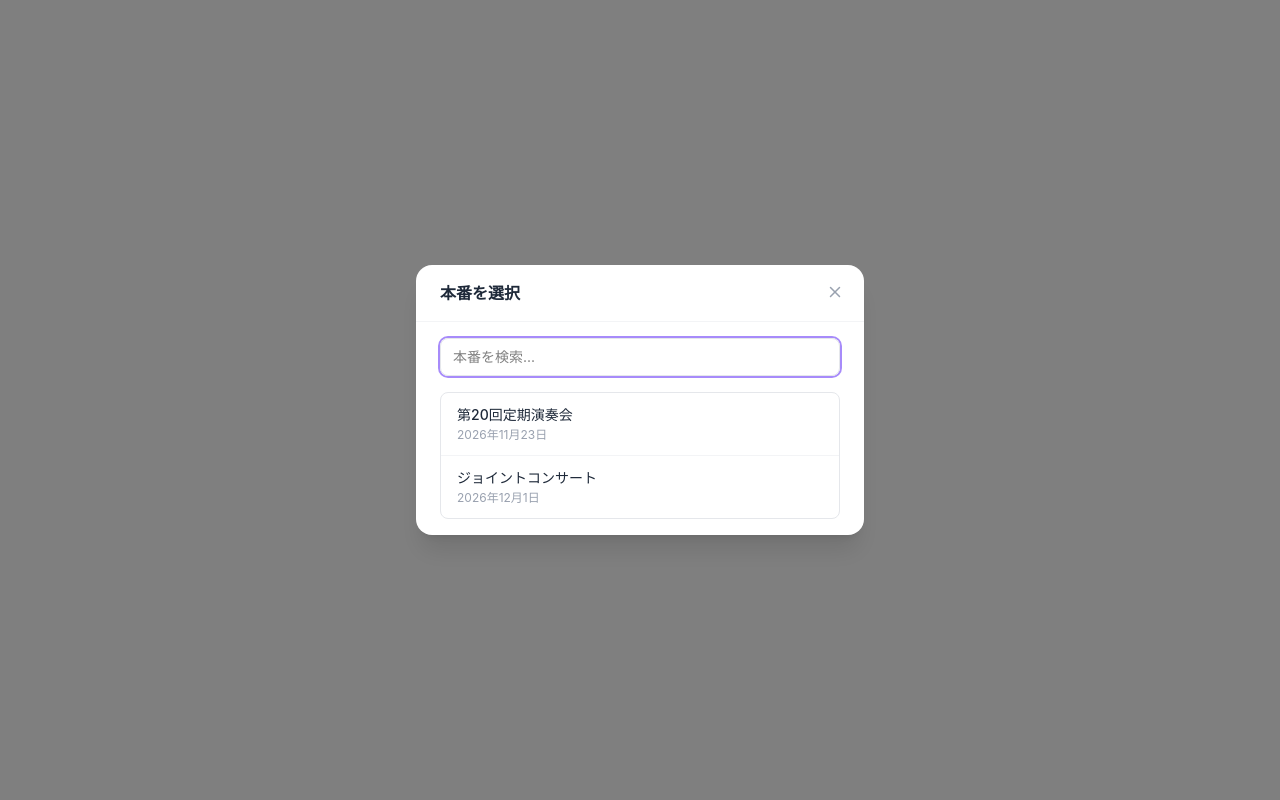
Scenario: ResourcePickerModal（本番） › 全件取得しタイトルでクライアント側フィルタする
expect the text "第20回定期演奏会" is shown: met, box x1=457 y1=406 x2=573 y2=423
expect the text "ジョイントコンサート" is shown: met, box x1=457 y1=469 x2=597 y2=486
Type "ジョイント" into the field with placeholder "本番を検索...".
click(640, 357); type("ジョイント")  # box x1=440 y1=338 x2=840 y2=376
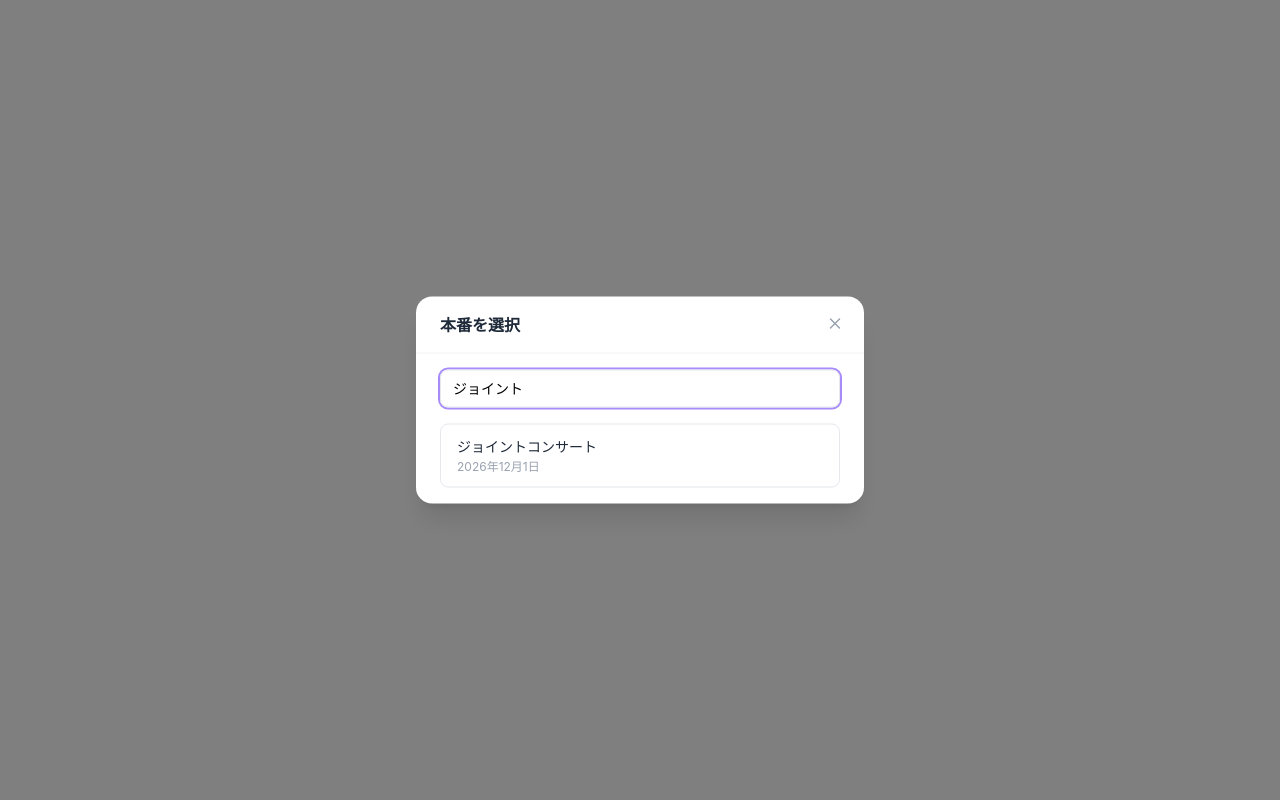
expect the text "ジョイントコンサート" is shown: met, box x1=457 y1=438 x2=597 y2=454
expect the button "第20回定期演奏会" is gone: met
